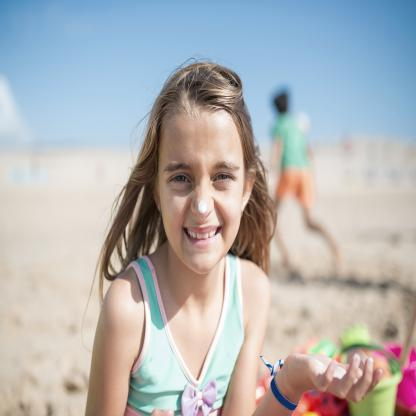Eye: (164, 164, 194, 194), (205, 166, 238, 190)
Mouth: (181, 216, 223, 250)
Nose: (190, 186, 216, 220)
